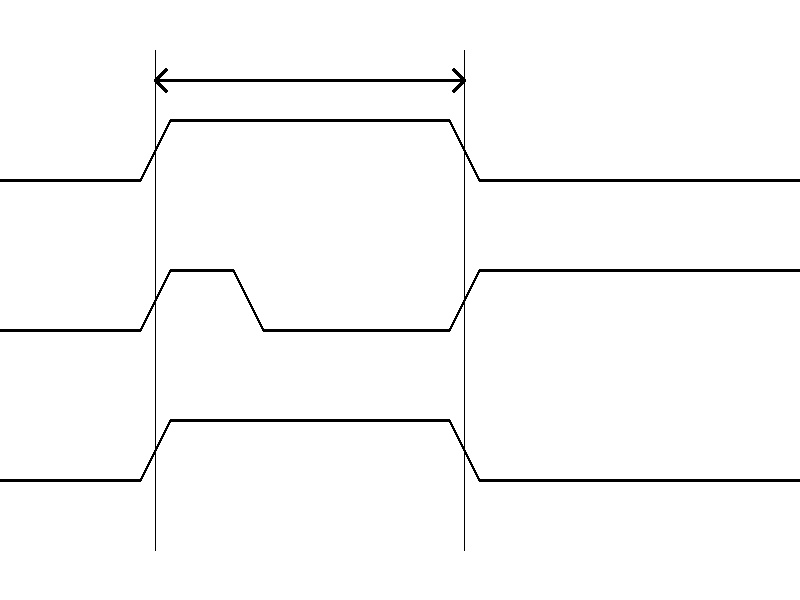double_arrow: (155, 65, 464, 95)
